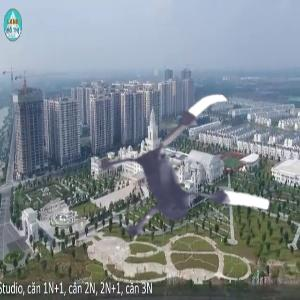drone: (85, 84, 282, 281)
